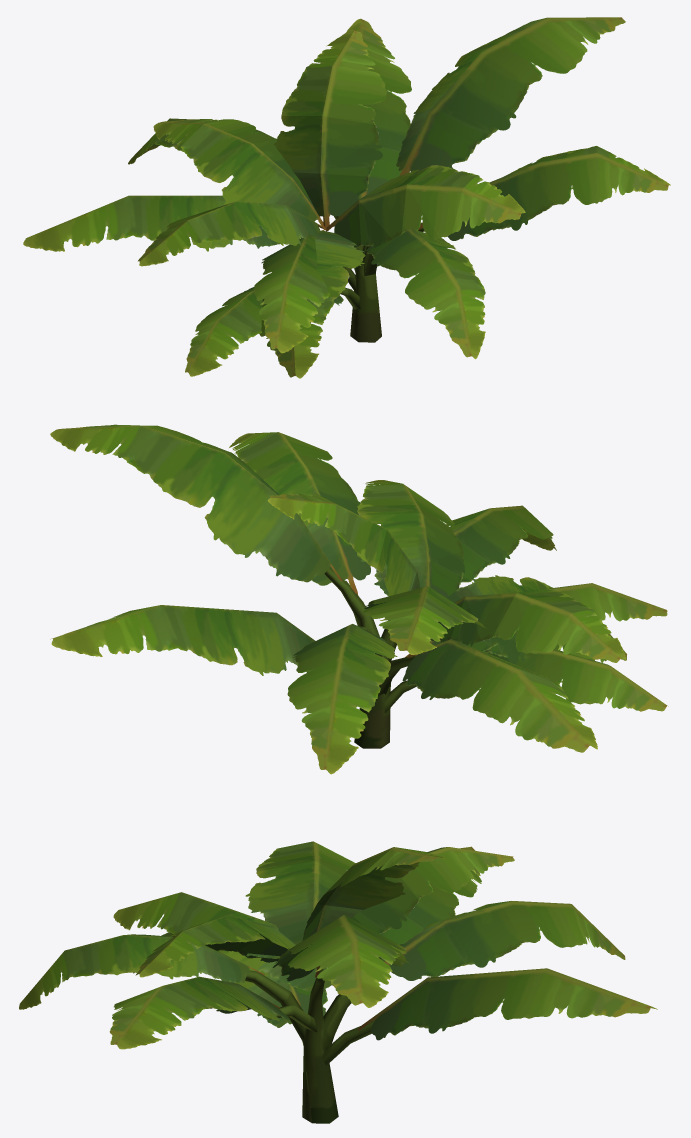
File: M_guanmu03.FBX
3 renders of one model, top to bottom at view 1: azimuth 30°, elevation 25°; view 2: azimuth 150°, elevation 25°; view 3: azimuth 270°, elevation 25°, orthographic. The views are drawn at different scales.
Visible parts, largest first — view 1: M_guanmu03; view 2: M_guanmu03; view 3: M_guanmu03.
Boxes of the visible parts, left/top/right/bottom form: M_guanmu03: left=23, top=17, right=670, bottom=378; M_guanmu03: left=50, top=424, right=668, bottom=774; M_guanmu03: left=19, top=841, right=657, bottom=1123.
Bounding box in the file's own units: 5.88 × 2.54 × 5.39.
